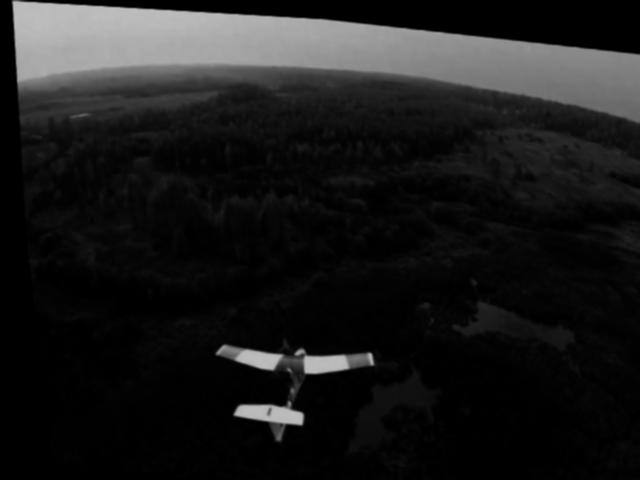hedef: (182, 282, 384, 461)
